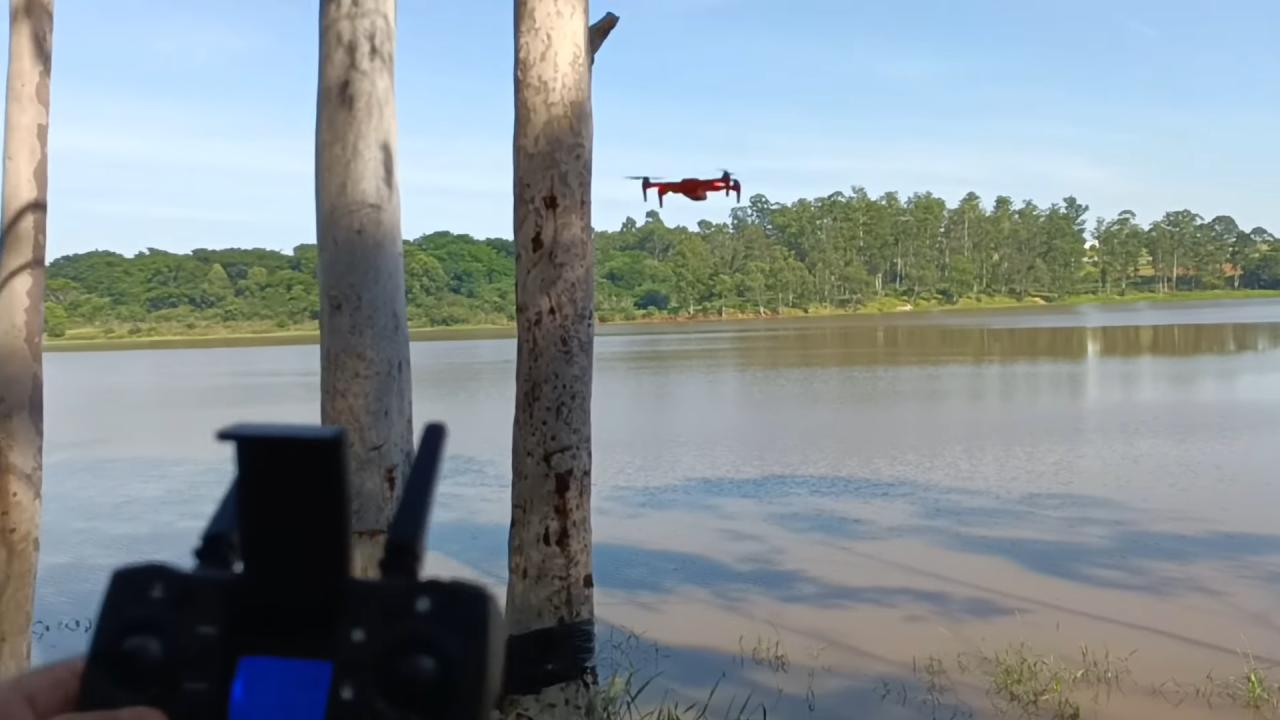Drone: (614, 162, 768, 213)
